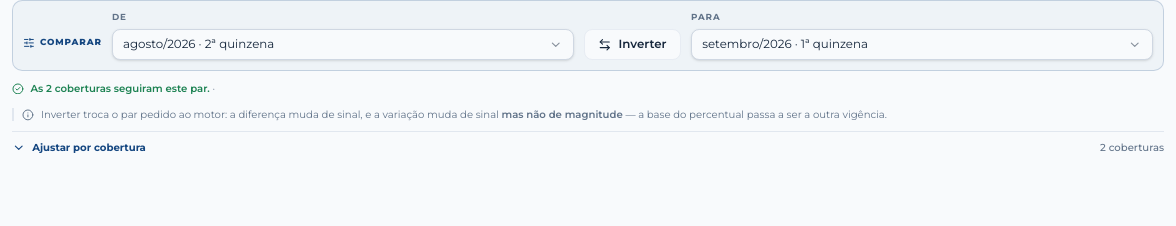
Test case: um par visível por vez › abre a gaveta com os quatro seletores quando alguém pede
Click the button "Ajustar por cobertura 2 coberturas".
click(89, 147)  # box [12, 131, 1164, 154]
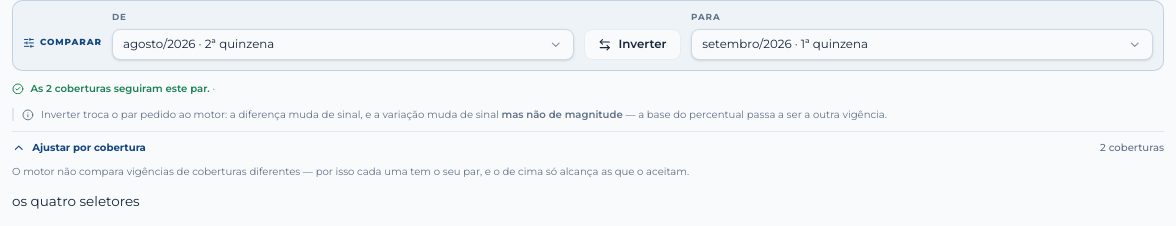
Result: the text "os quatro seletores" is shown at [12, 193, 140, 209]
